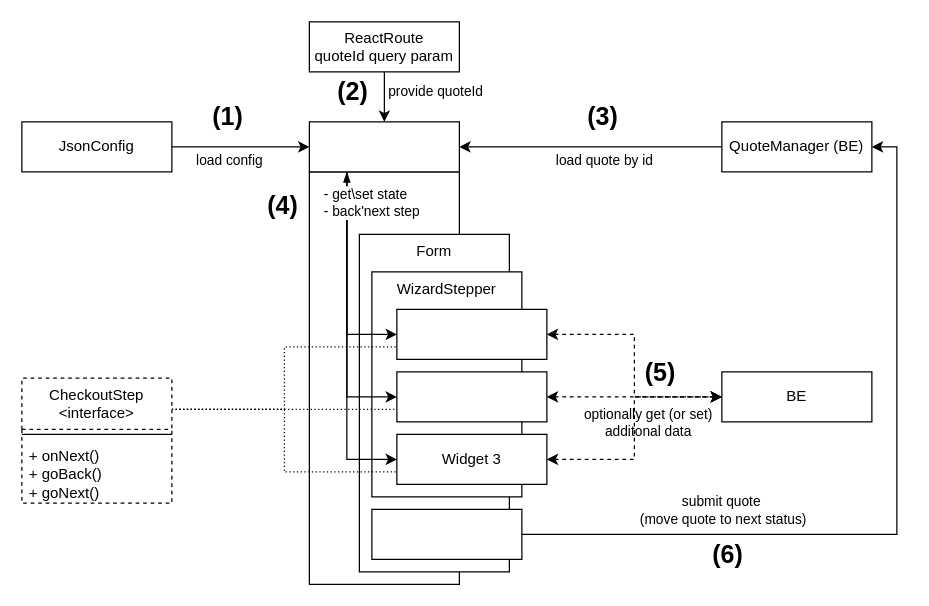
The diagram is 929 pixels wide and 606 high, and some of its shapes have lost their labels. Each missing label, with the centre of its shape:
CheckoutContext props: qouteId: the point at 383,146
SubmitWidget: the point at 446,533
Widget 1: the point at 471,333
Widget 2: the point at 471,396
